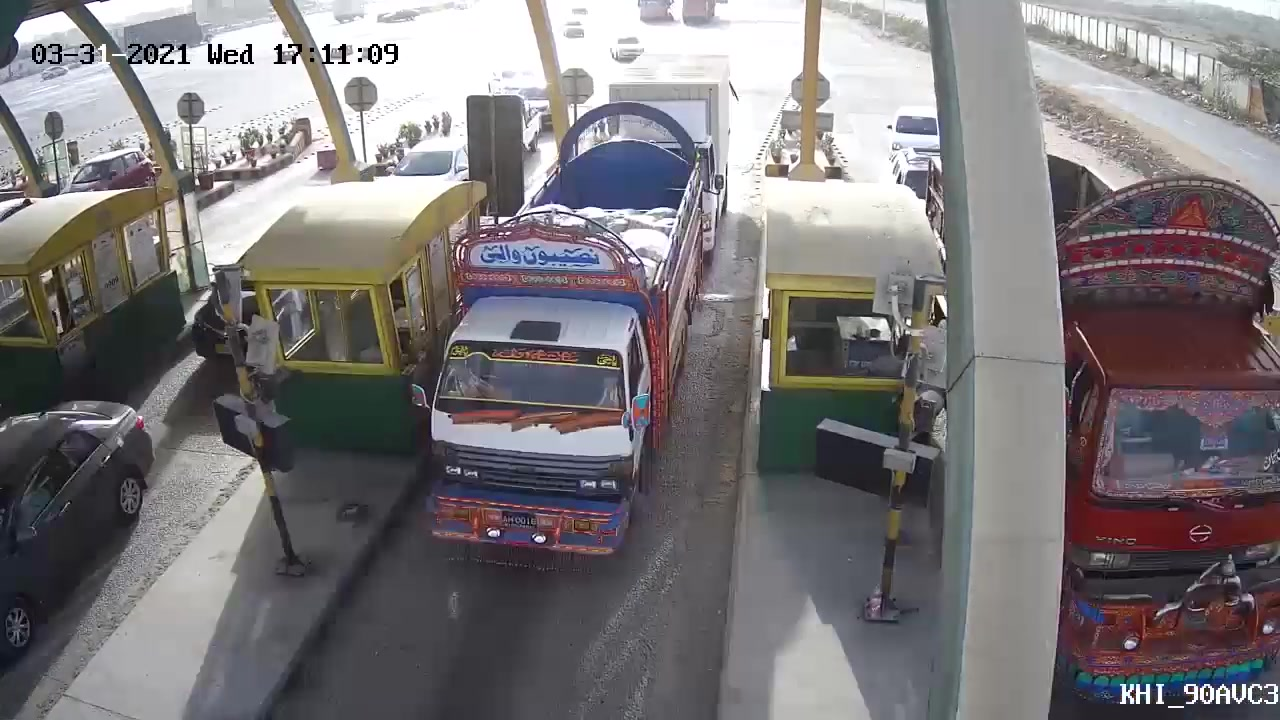F5: (416, 110, 712, 582)
